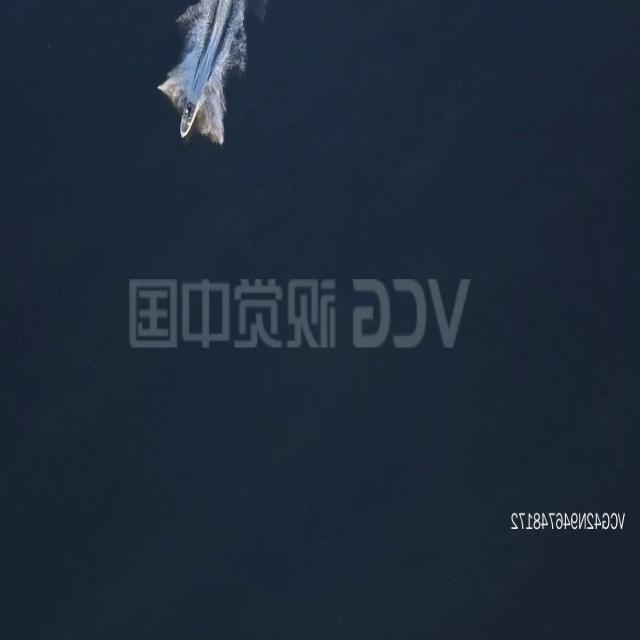houseboat: (177, 93, 200, 139)
